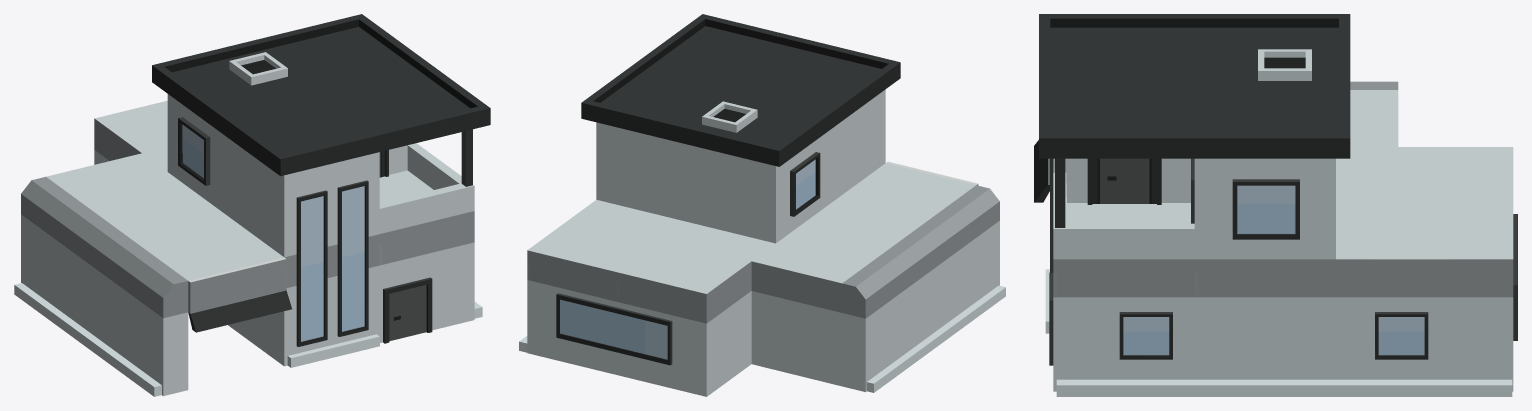
Rendered from Rich House.fbx.
3 renders of one model, left to right at view 1: azimuth 30°, elevation 25°; view 2: azimuth 150°, elevation 25°; view 3: azimuth 270°, elevation 25°, orthographic. The views are drawn at different scales.
Parts seen in each view (by area): view 1: Rich House; view 2: Rich House; view 3: Rich House.
Part boxes in pixels (x1,y1,x2,y2): Rich House: [14, 14, 490, 396]; Rich House: [519, 14, 1005, 396]; Rich House: [1034, 14, 1517, 396].
Bounding box in the file's own units: 4.77 × 2.98 × 5.02.
